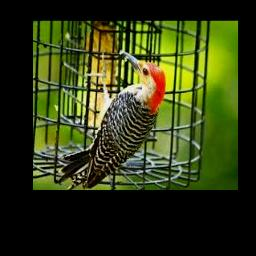Woodpecker: (61, 49, 166, 189)
